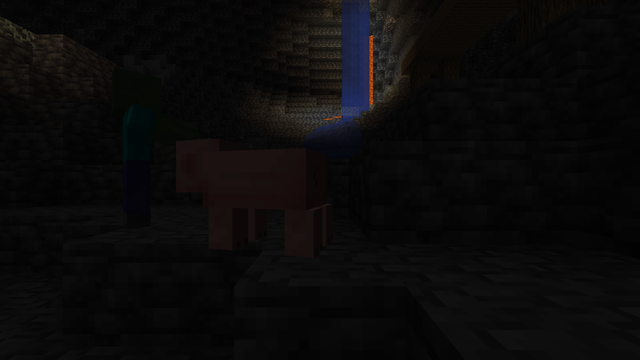cochons: (200, 144, 314, 256)
zombies: (95, 73, 171, 229)
